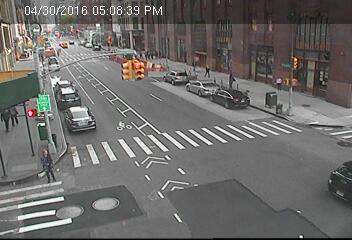neg: (81, 78, 108, 115), (86, 189, 111, 222), (305, 29, 330, 62), (163, 175, 186, 205), (220, 67, 242, 97), (144, 1, 165, 29), (68, 88, 87, 113), (56, 51, 75, 76), (286, 106, 304, 130), (313, 130, 329, 151), (51, 2, 66, 22), (47, 41, 58, 56), (64, 31, 73, 44), (225, 29, 234, 41), (44, 33, 50, 41), (73, 24, 78, 32)
pos: (30, 145, 63, 188), (200, 61, 216, 81), (188, 54, 203, 75), (273, 73, 288, 93)
